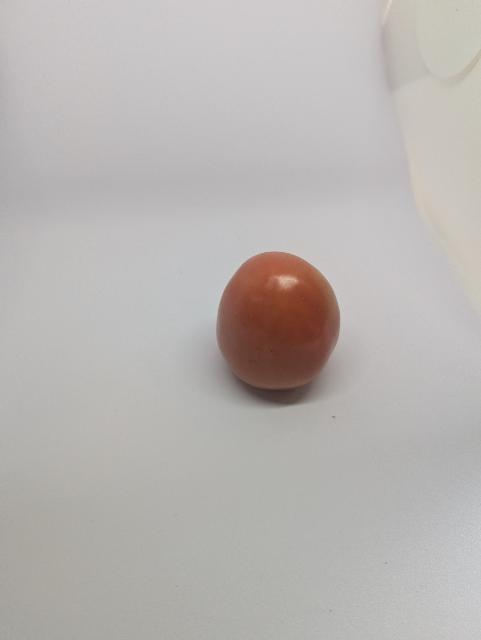red: (193, 230, 360, 409)
